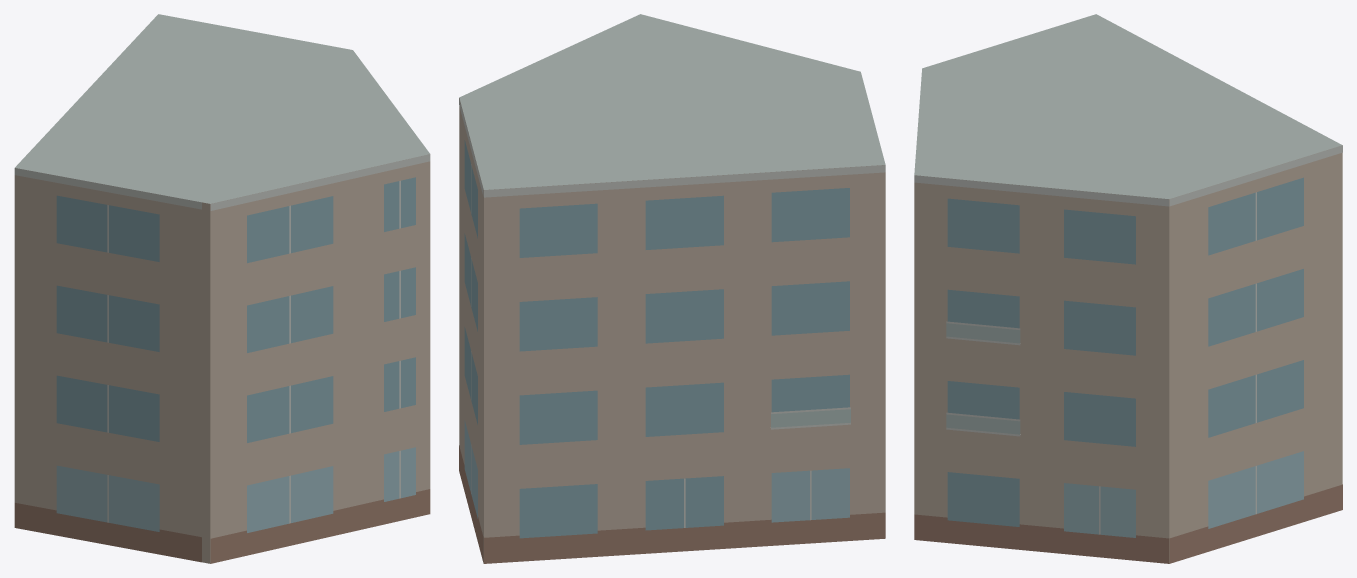
The model's file is survey-upis-32774039.glb.
3 renders of one model, left to right at view 1: azimuth 30°, elevation 25°; view 2: azimuth 150°, elevation 25°; view 3: azimuth 270°, elevation 25°, orthographic. The views are drawn at different scales.
Visible parts, largest first — view 1: survey-upis-32774039.tmp; view 2: survey-upis-32774039.tmp; view 3: survey-upis-32774039.tmp.
Boxes of the visible parts, x1,y1,x2,y2 form: survey-upis-32774039.tmp: [14, 14, 430, 563]; survey-upis-32774039.tmp: [459, 14, 885, 563]; survey-upis-32774039.tmp: [914, 14, 1342, 563].
Bounding box in the file's own units: 13.19 × 12.1 × 12.89.
